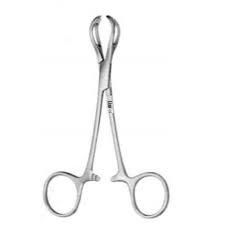Lane Tissue Forceps: (45, 13, 171, 219)
